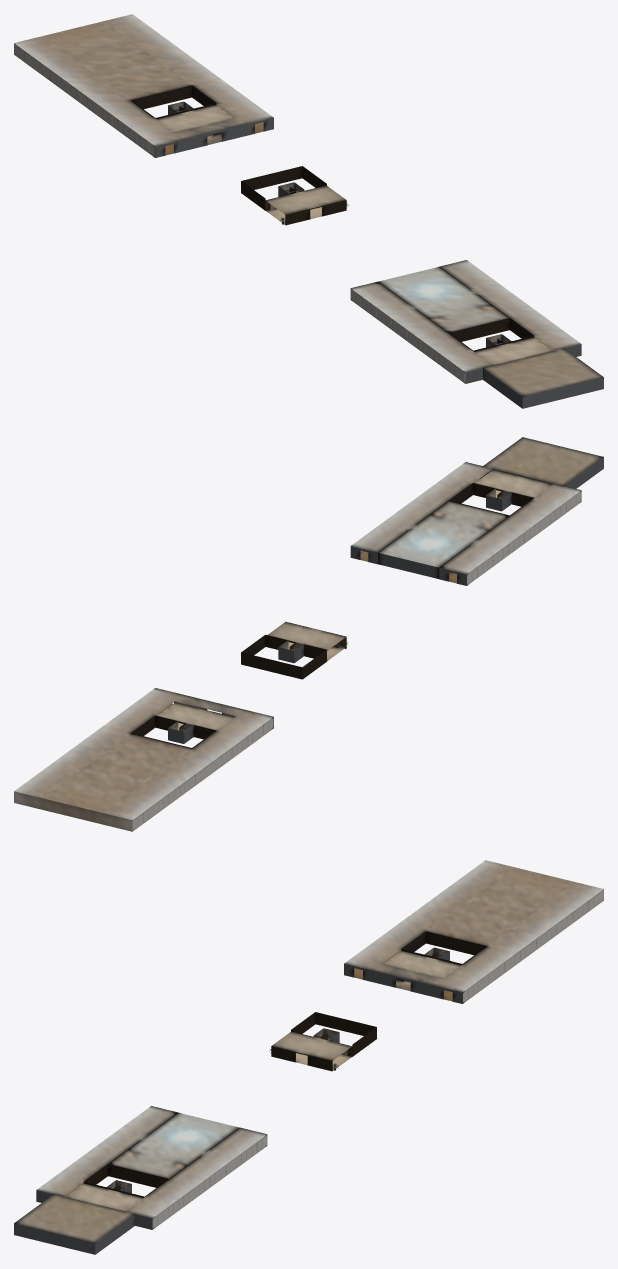
Rendered from deck15.glb.
3 renders of one model, top to bottom at view 1: azimuth 30°, elevation 25°; view 2: azimuth 150°, elevation 25°; view 3: azimuth 330°, elevation 25°, orthographic.
Parts seen in each view (by area): view 1: kr_decke, kr_wand, kr_holz, kr_glas; view 2: kr_decke, kr_wand, kr_holz, kr_glas, kr_fliese; view 3: kr_decke, kr_wand, kr_holz, kr_glas.
Boxes of the visible parts, left/top/right/bottom form: kr_decke: left=14, top=14, right=603, bottom=396; kr_wand: left=14, top=43, right=603, bottom=408; kr_holz: left=81, top=85, right=534, bottom=351; kr_glas: left=14, top=45, right=464, bottom=381; kr_decke: left=14, top=437, right=603, bottom=820; kr_wand: left=14, top=437, right=603, bottom=831; kr_holz: left=131, top=483, right=533, bottom=813; kr_glas: left=133, top=492, right=581, bottom=829; kr_fliese: left=378, top=553, right=439, bottom=578; kr_decke: left=14, top=860, right=603, bottom=1242; kr_wand: left=14, top=889, right=603, bottom=1254; kr_holz: left=83, top=931, right=536, bottom=1197; kr_glas: left=153, top=891, right=603, bottom=1227.
Bounding box in the file's own units: 31.04 × 3 × 222.
